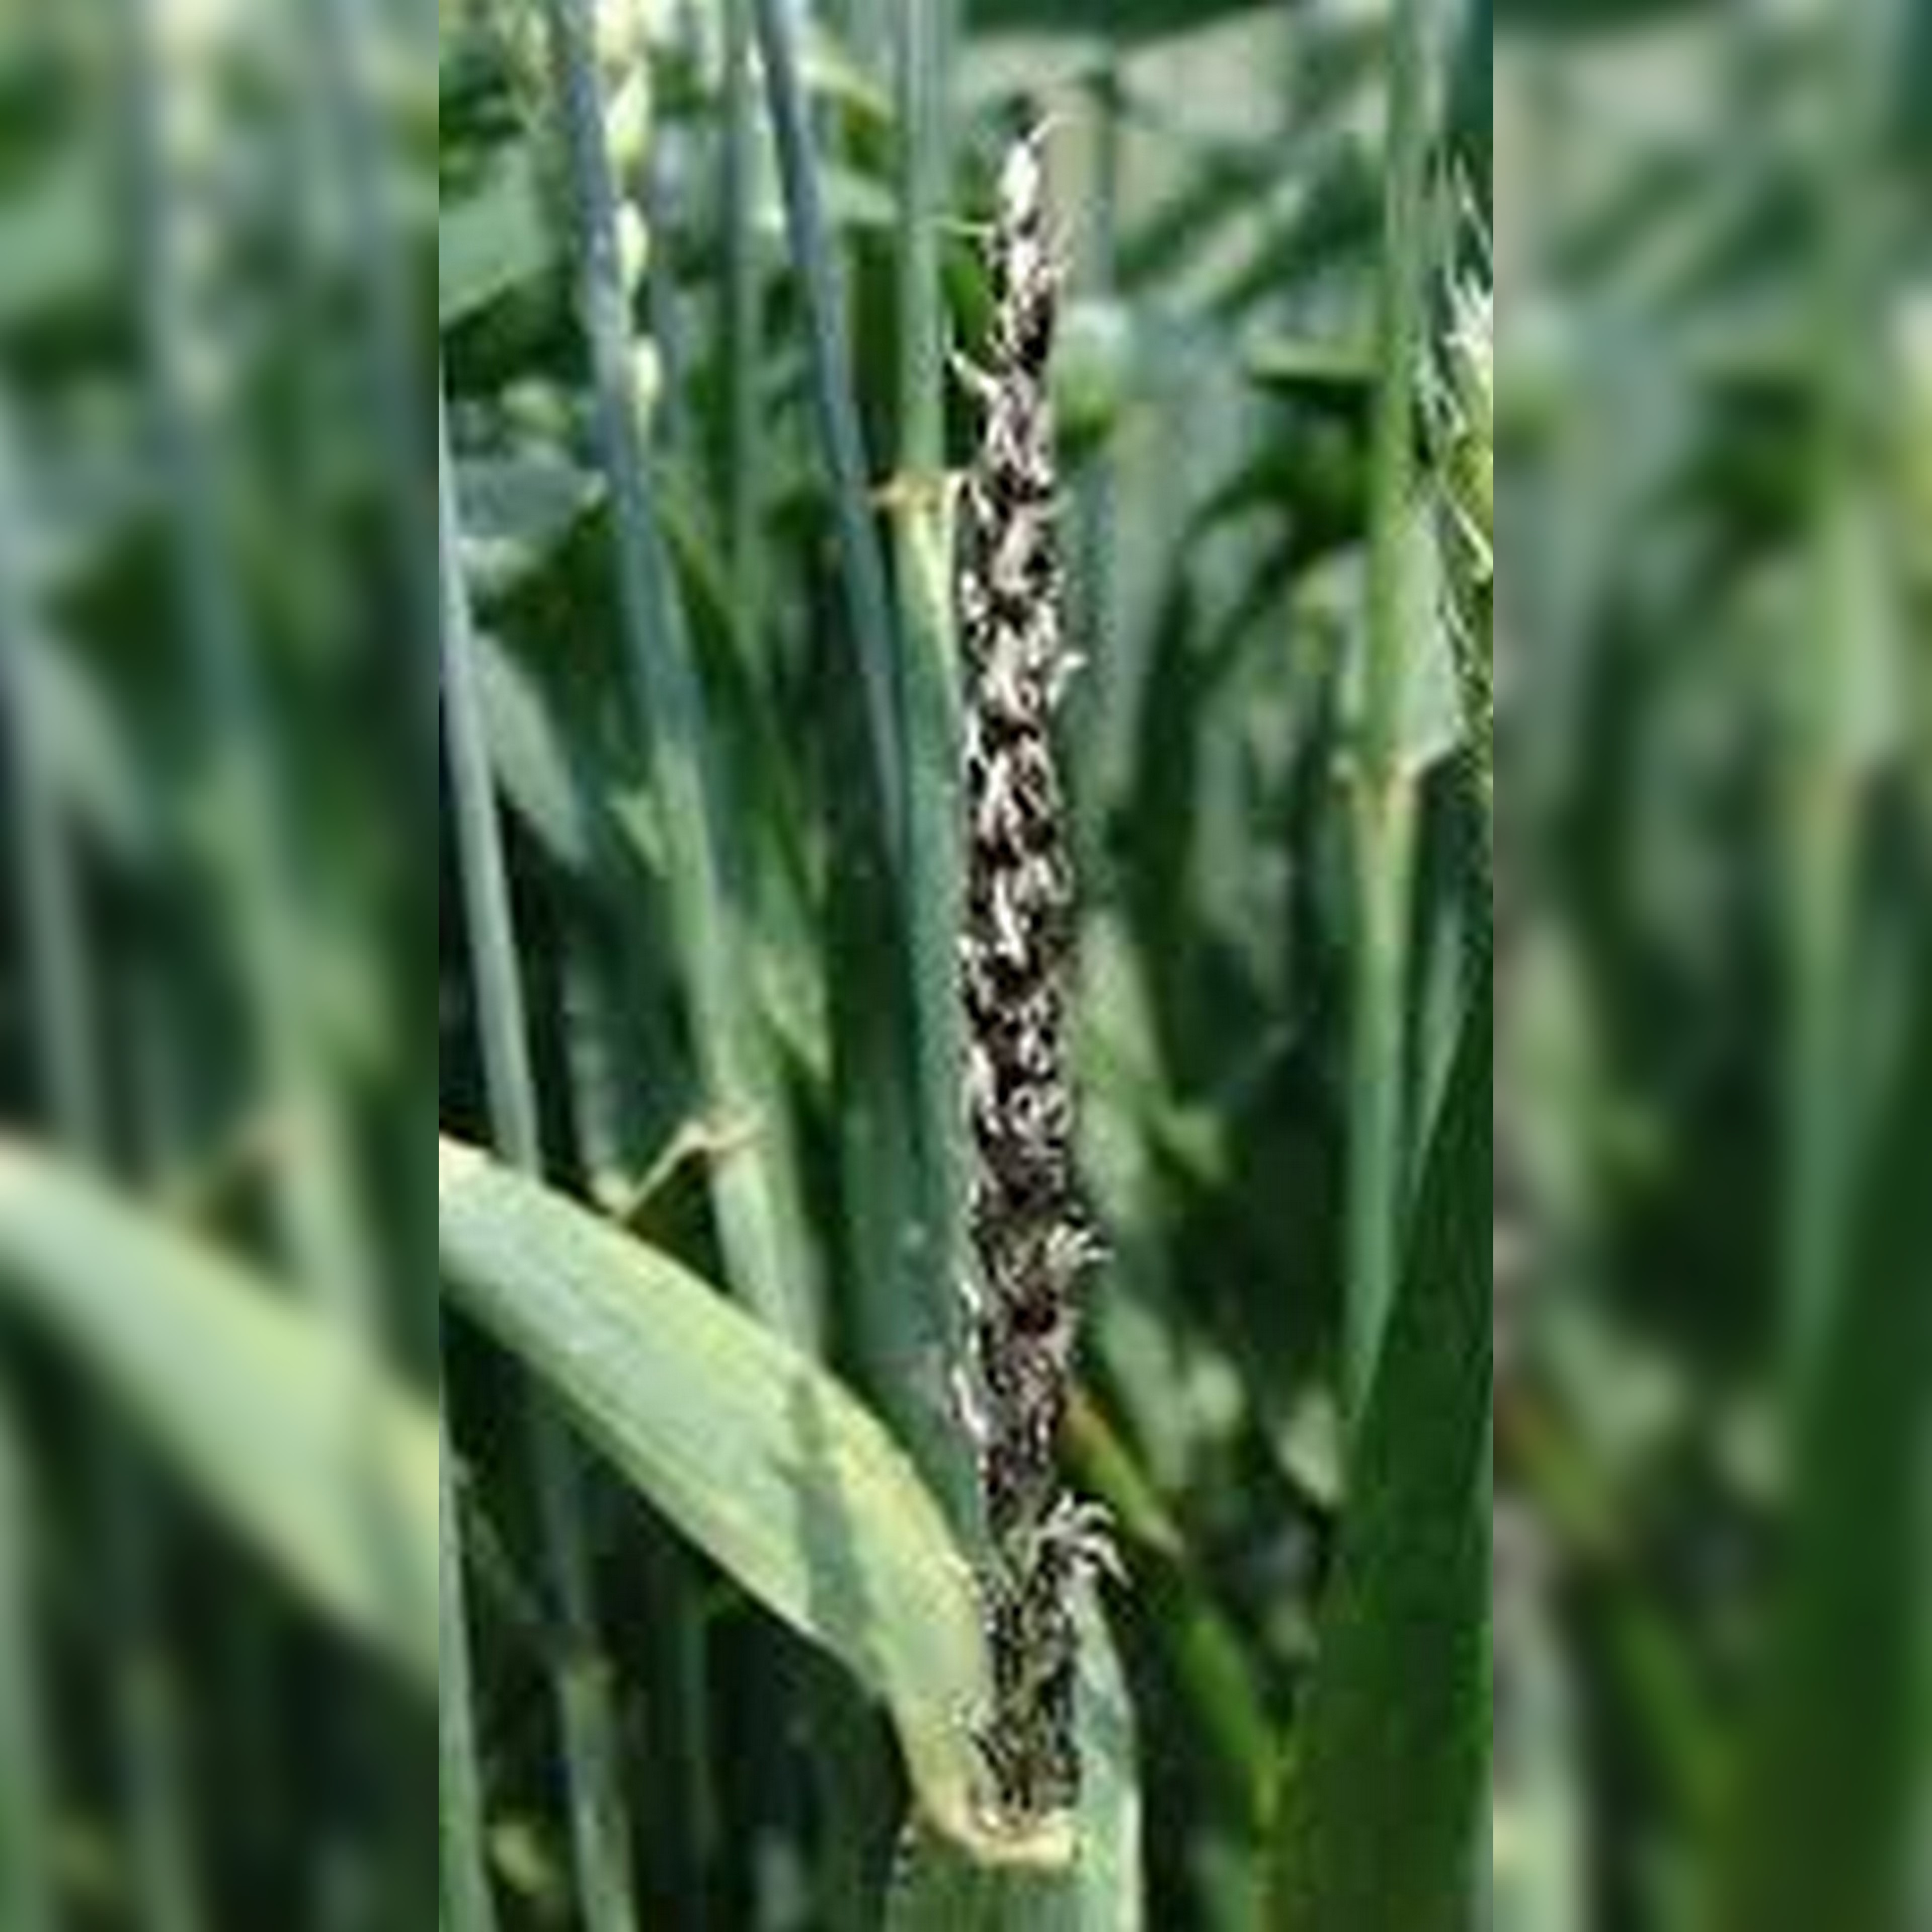Wheat Loose Smut: (883, 154, 1125, 1564)
